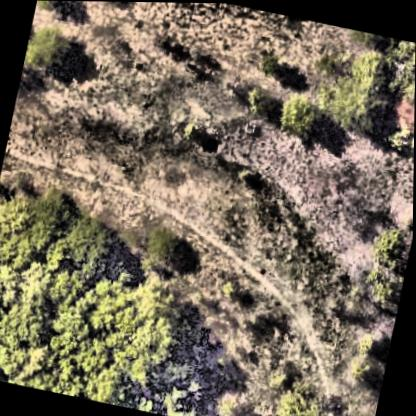tree-top: (0, 290, 142, 406), (85, 276, 202, 390), (0, 170, 81, 277), (329, 46, 397, 143), (63, 216, 121, 275), (25, 21, 78, 76), (143, 225, 198, 273), (384, 40, 416, 122), (273, 94, 323, 142), (273, 382, 339, 416), (371, 220, 413, 273), (350, 326, 393, 366), (242, 84, 281, 123), (347, 355, 383, 393), (256, 51, 286, 81), (35, 0, 66, 15)
